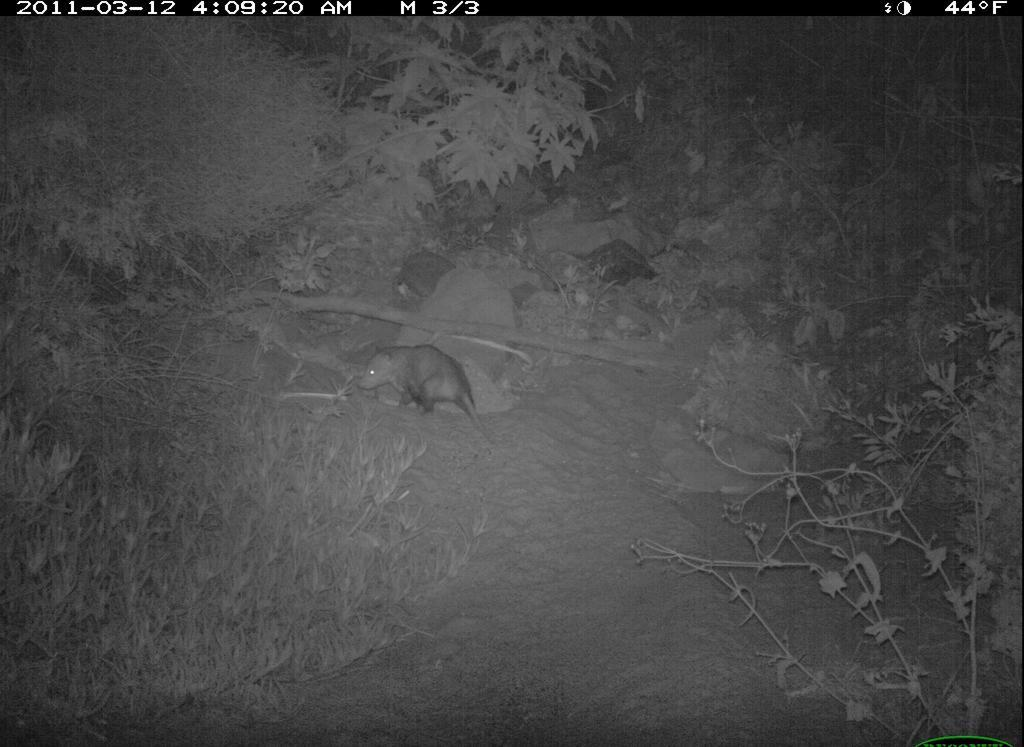opossum: (348, 333, 515, 466)
